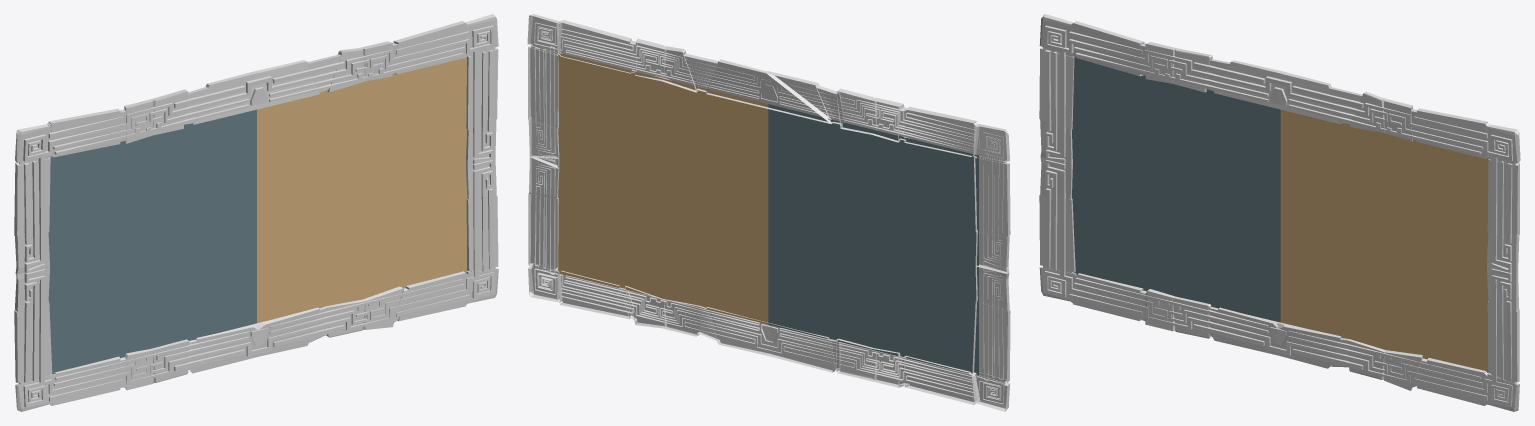
The model's file is mural.fbx.
3 views of the same model, side by side, from view 1: azimuth 30°, elevation 25°; view 2: azimuth 150°, elevation 25°; view 3: azimuth 330°, elevation 25° (orthographic).
Parts seen in each view (by area): view 1: mural.001, mural, stoneframe, ORNAMENT.001; view 2: mural.001, mural, stoneframe, ORNAMENT.001; view 3: mural.001, mural, stoneframe, ORNAMENT.001.
Boxes of the visible parts, <box> form: mural.001: <box>257,57,467,323</box>; mural: <box>48,109,256,374</box>; stoneframe: <box>14,14,498,411</box>; ORNAMENT.001: <box>23,25,494,407</box>; mural.001: <box>557,53,768,324</box>; mural: <box>768,104,978,375</box>; stoneframe: <box>527,14,1010,411</box>; ORNAMENT.001: <box>534,22,1004,404</box>; mural.001: <box>1280,110,1488,372</box>; mural: <box>1072,57,1280,322</box>; stoneframe: <box>1039,14,1520,411</box>; ORNAMENT.001: <box>1044,25,1512,406</box>.
Bounding box in the file's own units: 229 × 130 × 4.
